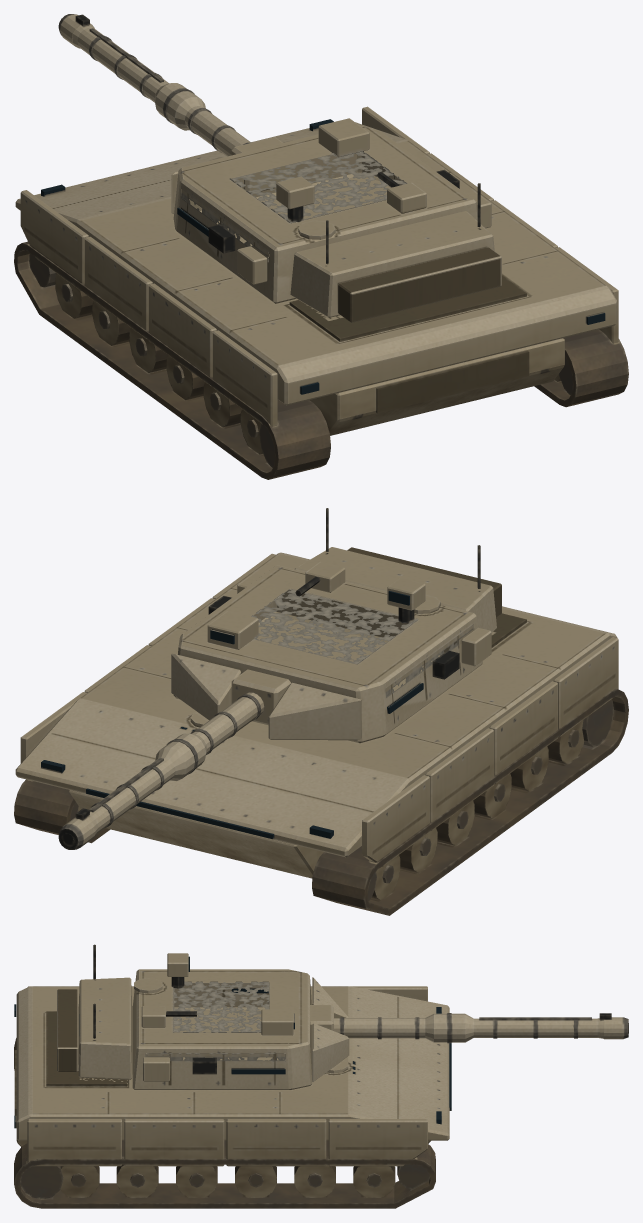
File: ord_lancer.fbx
The picture shows the model from 3 angles, top to bottom: view 1: azimuth 30°, elevation 25°; view 2: azimuth 150°, elevation 25°; view 3: azimuth 270°, elevation 25°; orthographic projection. The views are drawn at different scales.
Visible parts, largest first — view 1: base_a, turret_a, barrel_a; view 2: base_a, turret_a, barrel_a; view 3: base_a, turret_a, barrel_a.
Part boxes in pixels (x1,y1,x2,y2): base_a: (14,106,628,479); turret_a: (171,118,501,322); barrel_a: (58,14,291,193); base_a: (14,552,628,915); turret_a: (171,508,501,743); barrel_a: (58,669,290,849); base_a: (14,986,451,1208); turret_a: (57,944,349,1089); barrel_a: (310,1005,628,1050).
Size of the model in its own units: 600 by 340 by 1144.
2 materials, 2 textured.
